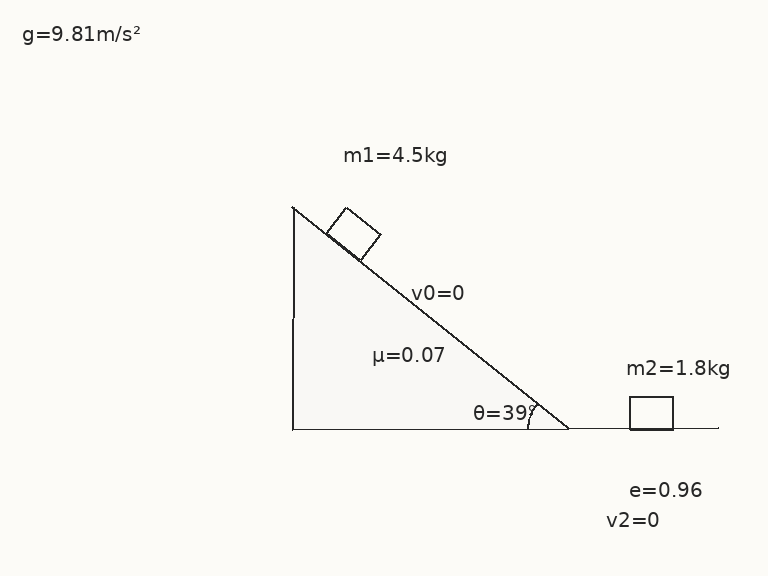block: (324, 206, 382, 262), (627, 395, 675, 431)
ramp: (291, 204, 570, 431)
